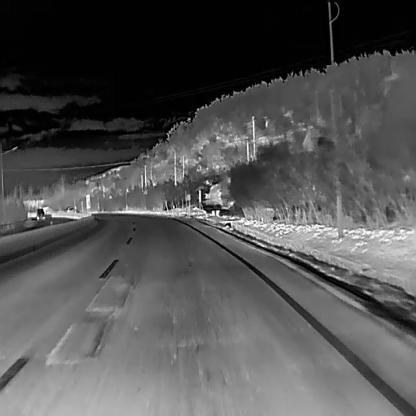car: (0, 217, 38, 310), (28, 201, 69, 228), (0, 205, 23, 231), (111, 198, 128, 216), (176, 193, 182, 201)
